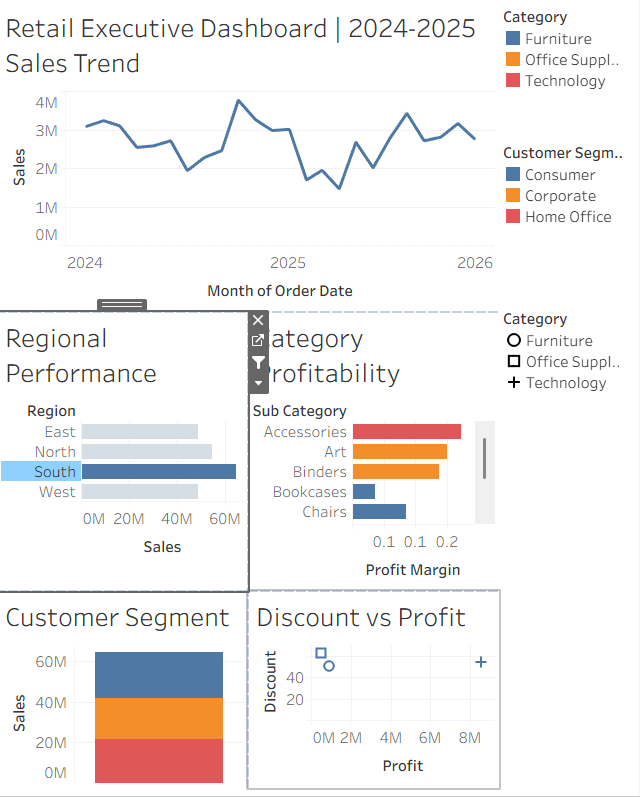

The dashboard page shown, as its layout file describes it:
{"tool":"tableau","page":{"name":"executive_dashboard","canvas":[650,860],"ordinal":0},"visuals":[{"type":"worksheet","title":"Sales Trend","mark":"Automatic","rows":["sales"],"cols":["order_date"],"box":[8,8.6,502,332.4]},{"type":"legend","title":"Category Profitability","param":"[federated.12bbo2l1mpend0119bw0o1em13mk].[none:category:nk]","box":[510,8.6,132,145.8]},{"type":"legend","title":"Customer Segment","param":"[federated.12bbo2l1mpend0119bw0o1em13mk].[none:customer_segment:nk]","box":[510,154.4,132,178]},{"type":"legend","title":"Discount vs Profit","param":"[federated.12bbo2l1mpend0119bw0o1em13mk].[none:category:nk]","box":[510,332.4,132,141.5]},{"type":"worksheet","title":"Regional Performance","mark":"Automatic","rows":["region"],"cols":["sales"],"box":[8,341,251,299.7]},{"type":"worksheet","title":"Category Profitability","mark":"Automatic","rows":["sub_category"],"cols":["Calculation_0981331667025920"],"box":[259,341,251,299.7]},{"type":"worksheet","title":"Customer Segment","mark":"Automatic","rows":["sales"],"box":[8,640.7,251,210.7]},{"type":"worksheet","title":"Discount vs Profit","mark":"Automatic","rows":["discount"],"cols":["profit"],"box":[259,640.7,251,210.7]}]}

Visuals, with their boxes on the page's 650x860 design canvas (x1, y1, x2, y2). These are canvas units, not pixel positions in the 640x797 screenshot, which may show the page scaled, cropped or inside an application window:
"Sales Trend" worksheet: [left=8, top=9, right=510, bottom=341]
"Category Profitability" legend: [left=510, top=9, right=642, bottom=154]
"Customer Segment" legend: [left=510, top=154, right=642, bottom=332]
"Discount vs Profit" legend: [left=510, top=332, right=642, bottom=474]
"Regional Performance" worksheet: [left=8, top=341, right=259, bottom=641]
"Category Profitability" worksheet: [left=259, top=341, right=510, bottom=641]
"Customer Segment" worksheet: [left=8, top=641, right=259, bottom=851]
"Discount vs Profit" worksheet: [left=259, top=641, right=510, bottom=851]
